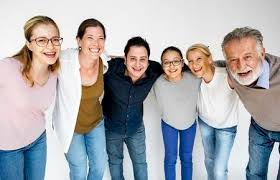person: (215, 24, 274, 107), (10, 12, 63, 89), (63, 9, 113, 85), (109, 27, 155, 87), (178, 35, 225, 92), (152, 35, 188, 91)
